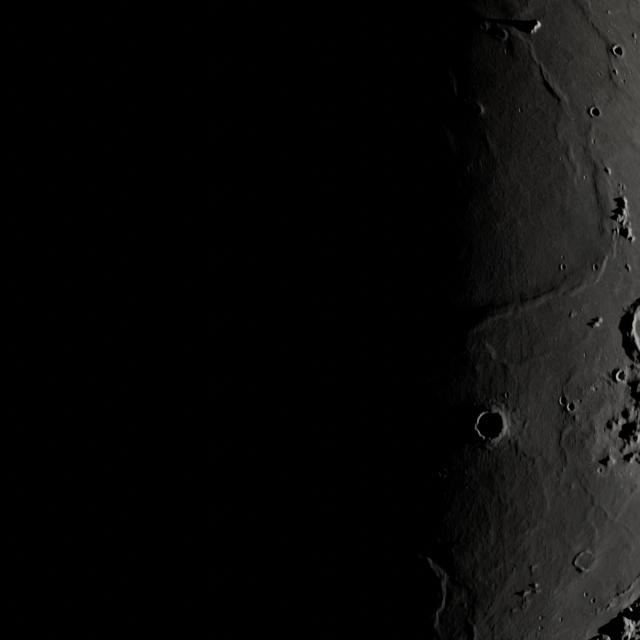crater: (471, 405, 510, 446), (612, 367, 630, 386), (611, 40, 625, 62), (586, 102, 604, 119)
rock: (614, 189, 638, 247)
